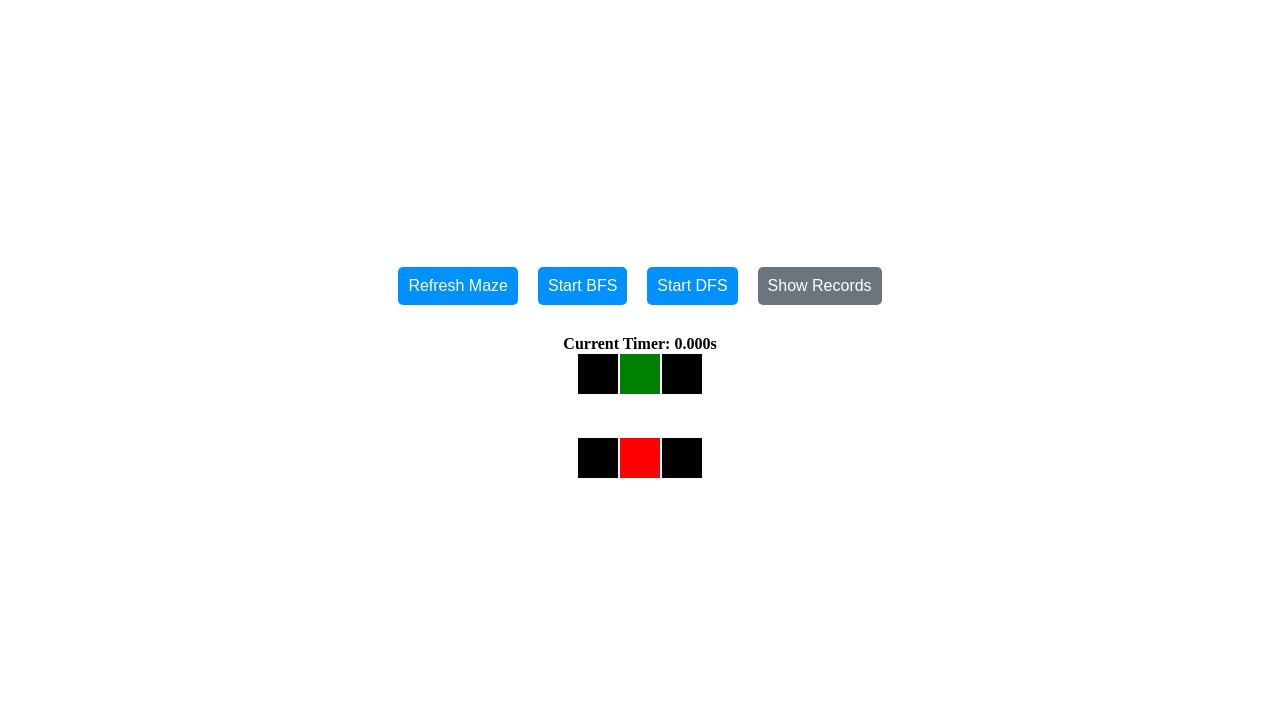
MazeGrid Integration › records algorithm results
Note: Show records table first
Click the button "Show Records" at (820, 286), box [758, 267, 882, 305]
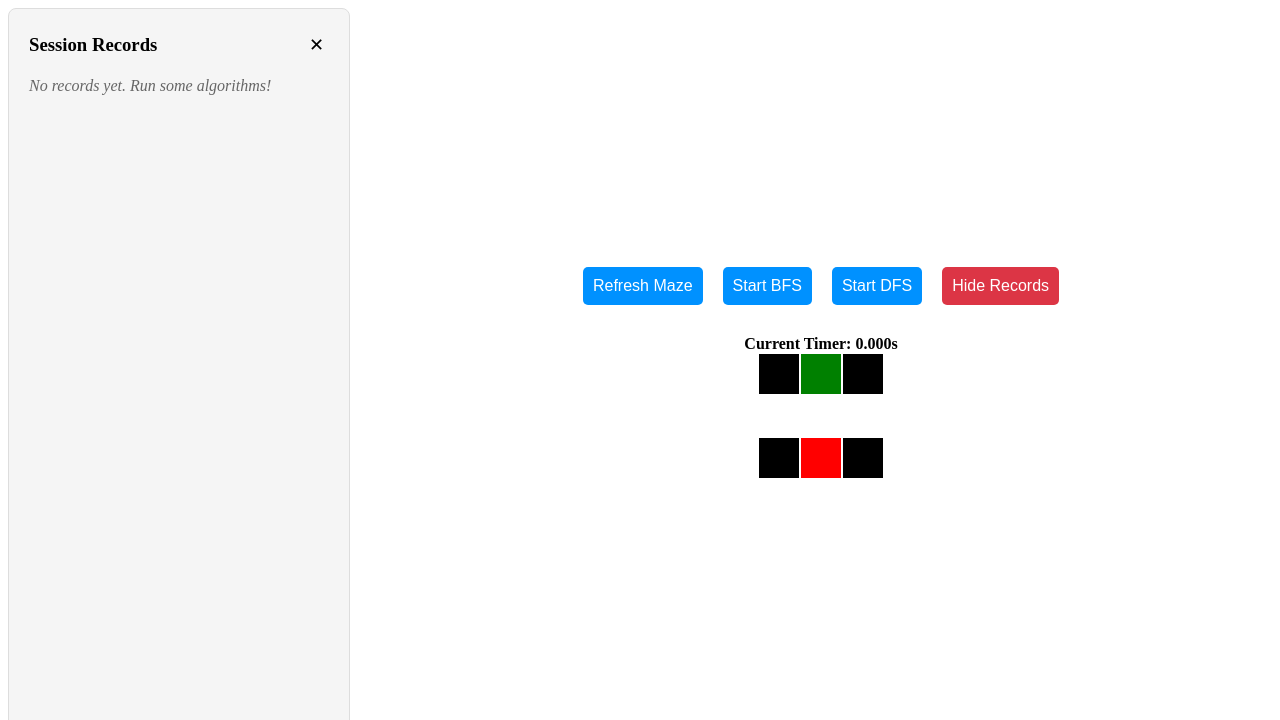
Note:  Run BFS
Click the button "Start BFS" at (767, 286), box [722, 267, 812, 305]
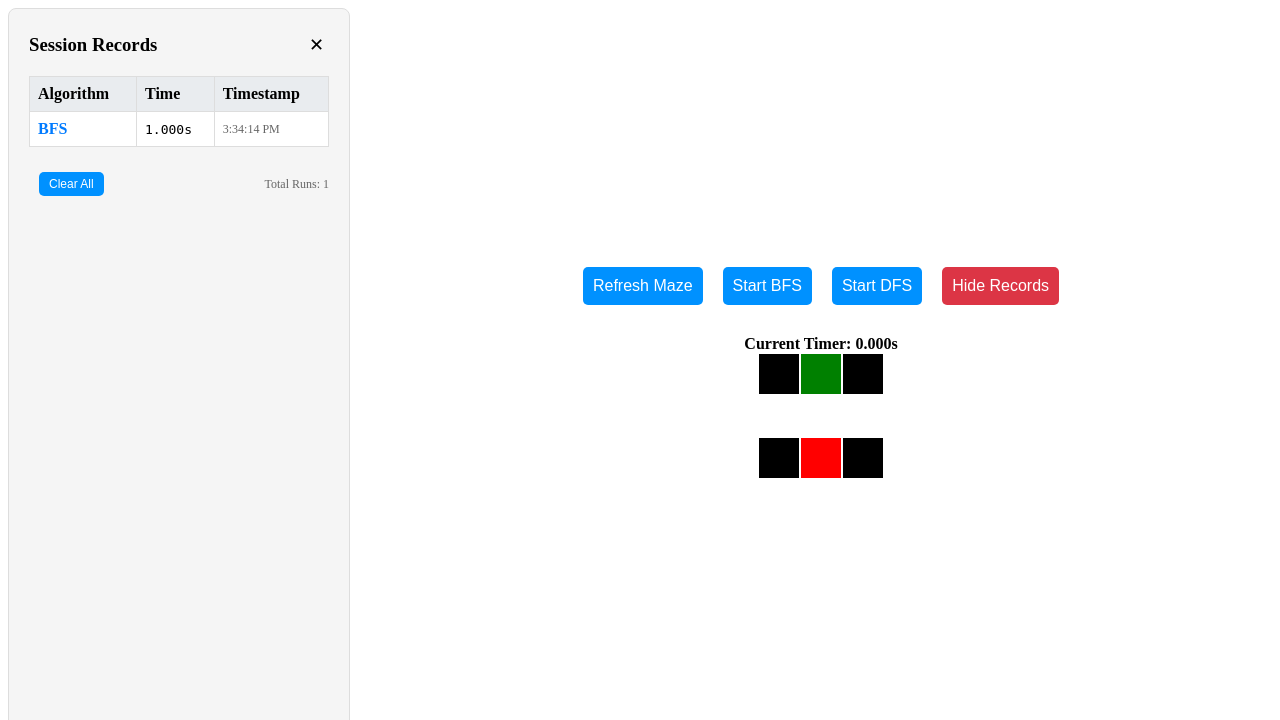
Check: the text "BFS" is shown, box [38, 120, 67, 137]
Note:  Run DFS
Click the button "Start DFS" at (877, 286), box [832, 267, 922, 305]
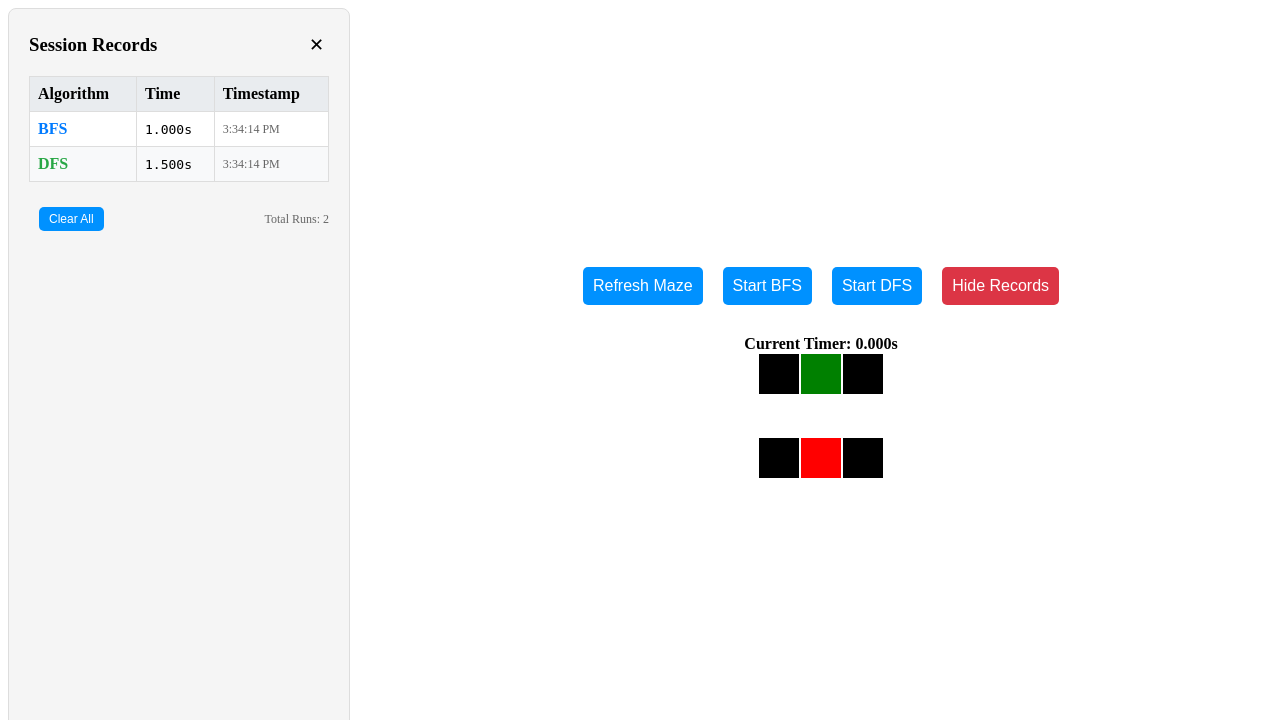
Check: the text "BFS" is shown once, box [38, 120, 67, 137]
Check: the text "DFS" is shown, box [38, 155, 68, 172]
Check: the text "Total Runs: 2" is shown, box [264, 212, 329, 226]
